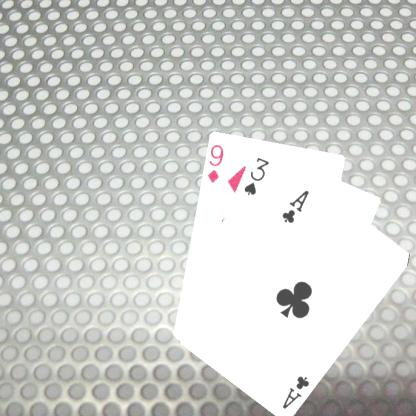3S: (241, 154, 270, 197)
9D: (204, 141, 225, 184)
AC: (279, 372, 311, 410), (279, 187, 311, 224)
